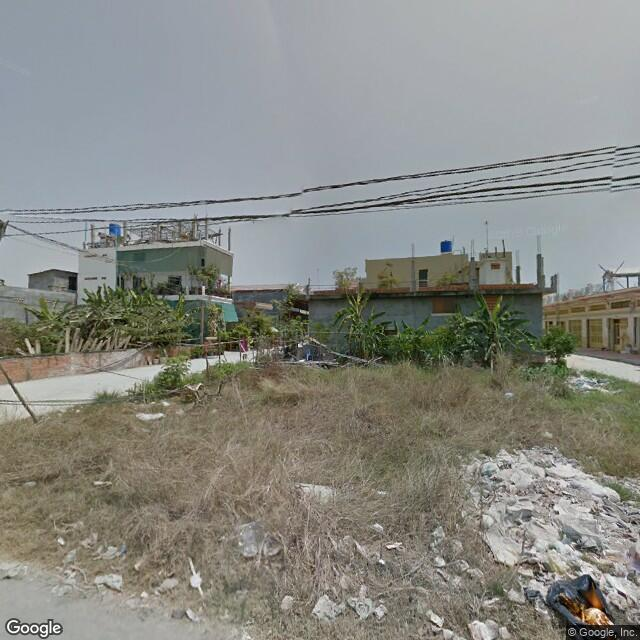litter: (474, 452, 640, 583), (543, 580, 636, 638), (315, 581, 386, 625), (232, 519, 289, 571), (83, 534, 148, 572), (429, 526, 469, 584), (177, 564, 207, 631), (294, 474, 347, 509), (557, 372, 617, 397), (462, 613, 510, 640), (90, 566, 133, 596), (132, 407, 175, 435), (498, 389, 522, 400)
